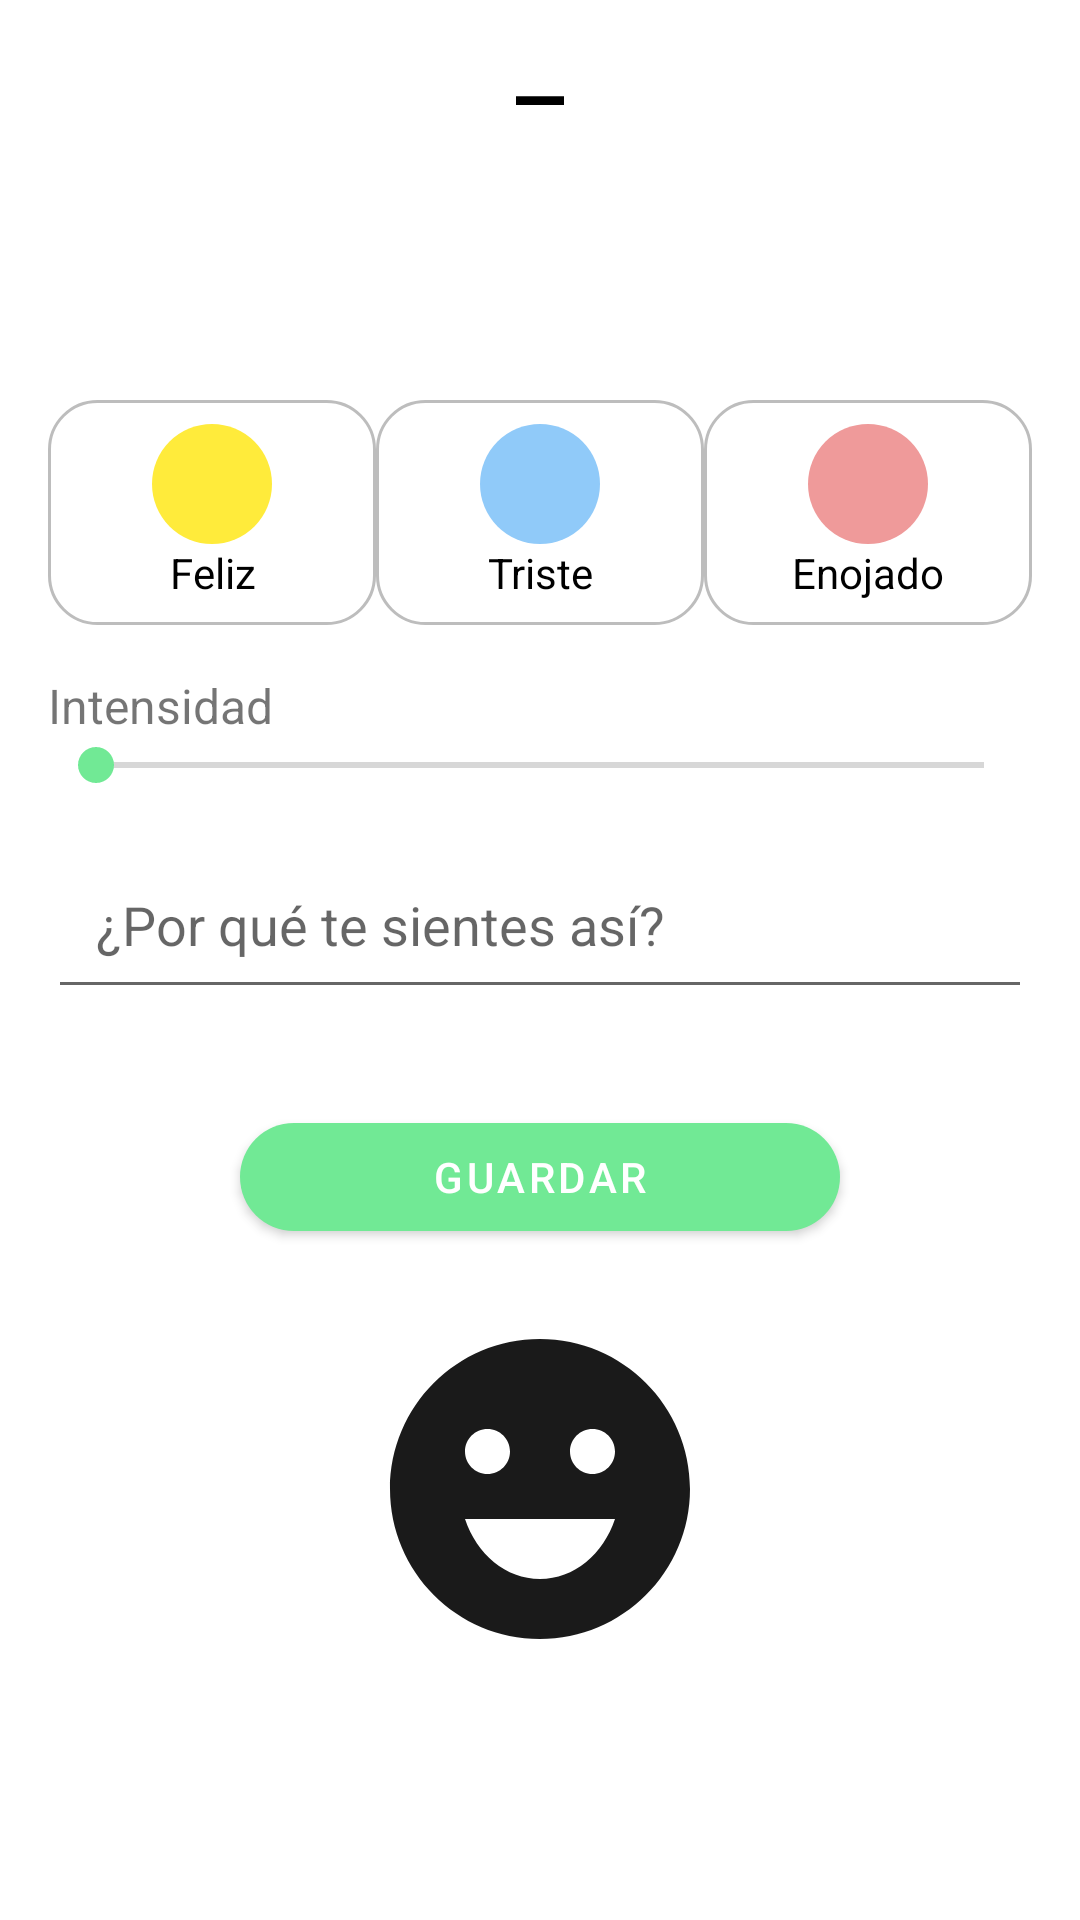

Screen size 1080 x 1920. Icon name, then its box in pixels as region(x1, y1, x2, y2):
emoji emotions: region(390, 1339, 690, 1639)
horizontal rule: region(516, 96, 564, 105)
